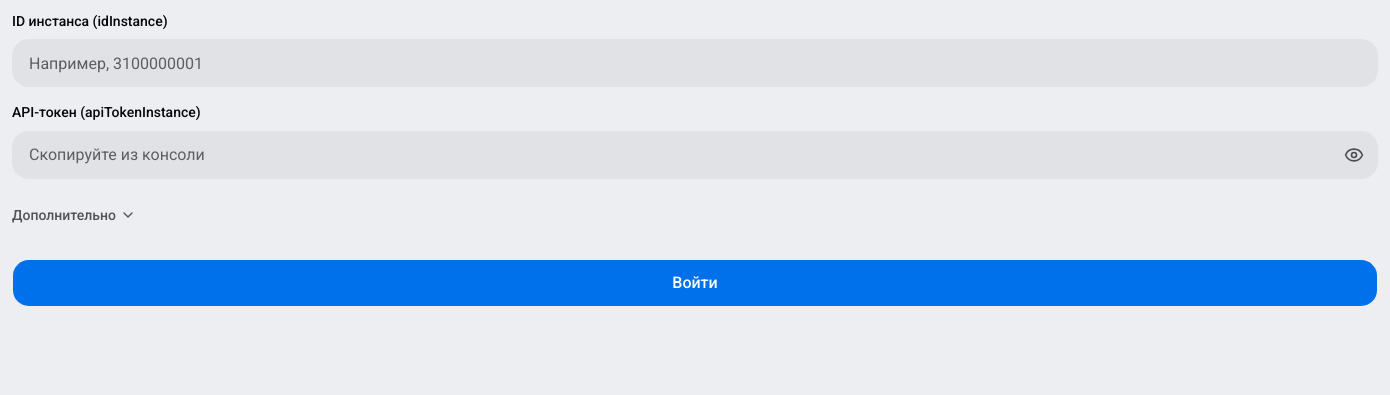
Test: LoginForm › shows a Russian error for a wrong token
Type "3100000001" into the field labelled "ID инстанса (idInstance)" at (695, 63), box x1=12 y1=39 x2=1378 y2=87
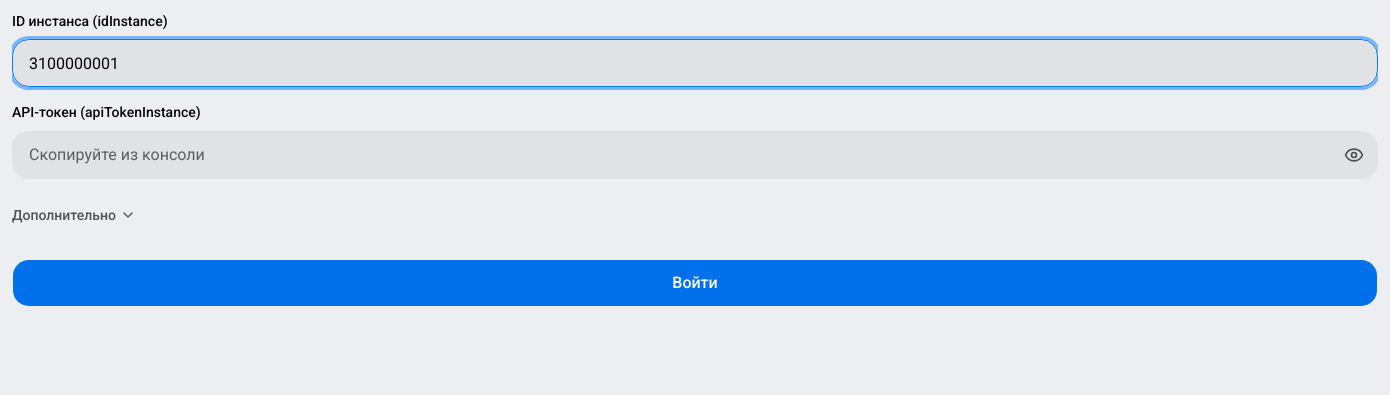
Type "wrong" into the password field labelled "API-токен (apiTokenInstance)" at (695, 154), box x1=12 y1=130 x2=1378 y2=178
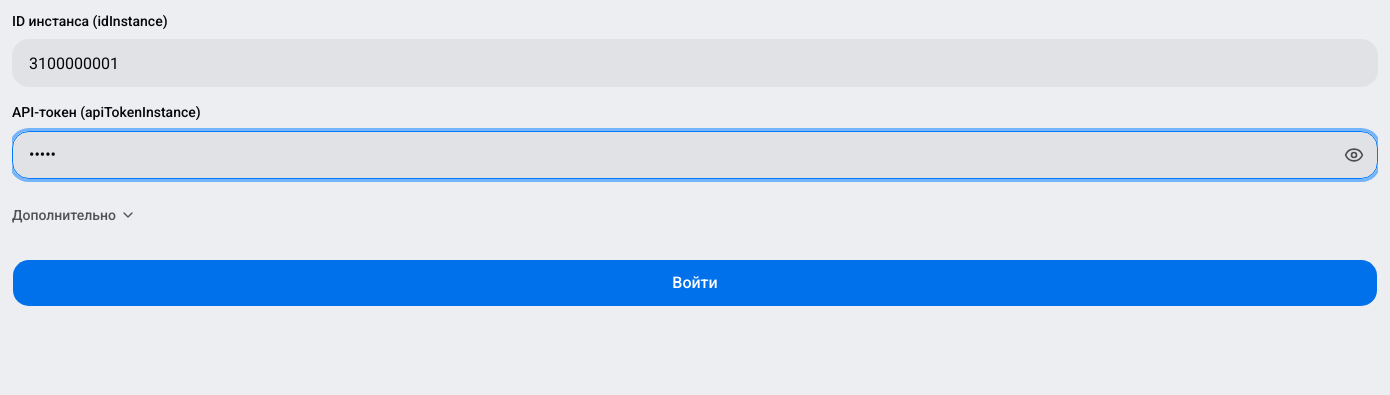
Click the button "Войти" at (695, 282), box x1=12 y1=258 x2=1378 y2=306
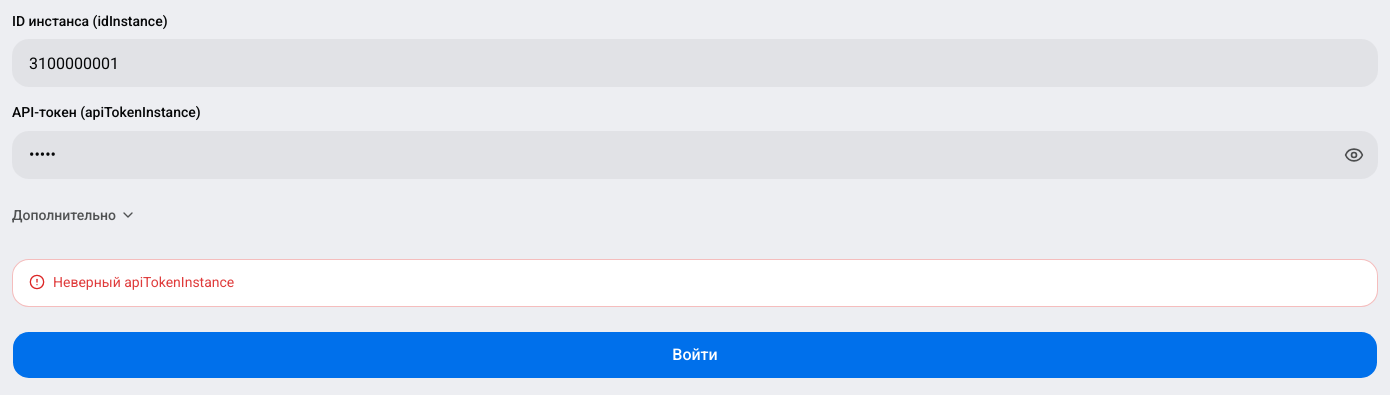
Expected: the button "Войти" is enabled, x1=12 y1=330 x2=1378 y2=378
Now the message reads "Неверный apiTokenInstance", box x1=53 y1=274 x2=234 y2=290
